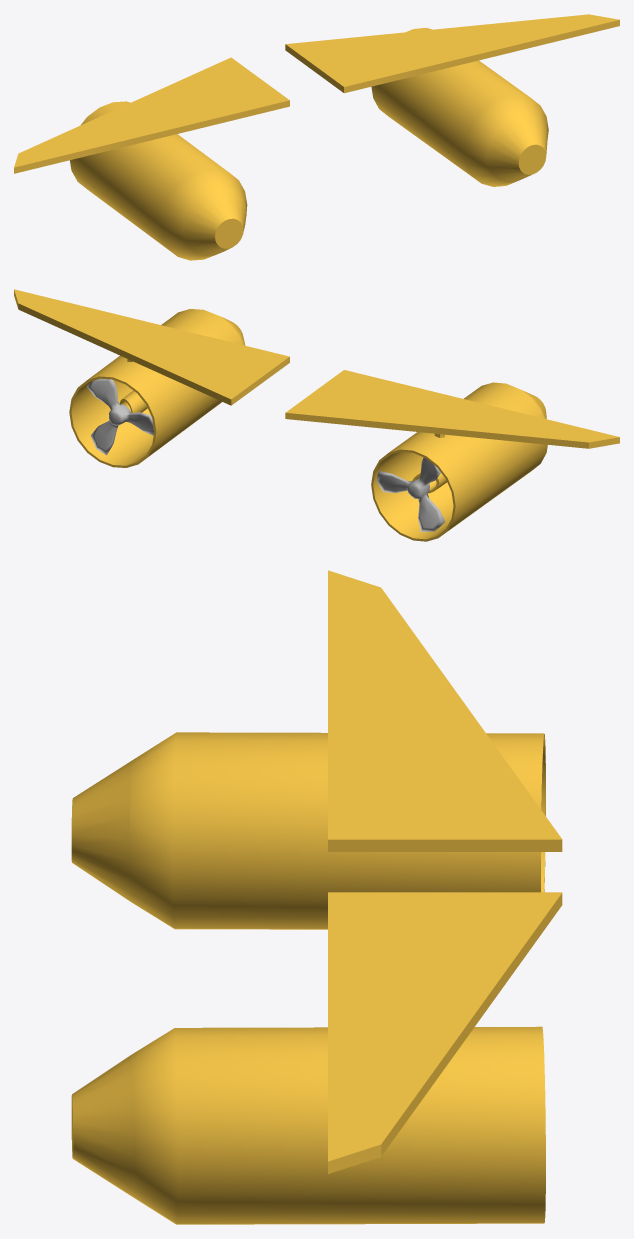
File: wingsWithTourbine.fbx
3 views of the same model, one above another, from view 1: azimuth 30°, elevation 25°; view 2: azimuth 150°, elevation 25°; view 3: azimuth 270°, elevation 25° (orthographic). The views are drawn at different scales.
Parts seen in each view (by area): view 1: wingsWithTourbine; view 2: wingsWithTourbine; view 3: wingsWithTourbine.
Boxes of the visible parts, x1,y1,x2,y2 form: wingsWithTourbine: (14,14,619,260); wingsWithTourbine: (14,289,619,541); wingsWithTourbine: (71,570,562,1224).
Size of the model in its own units: 297 by 47.44 by 104.
